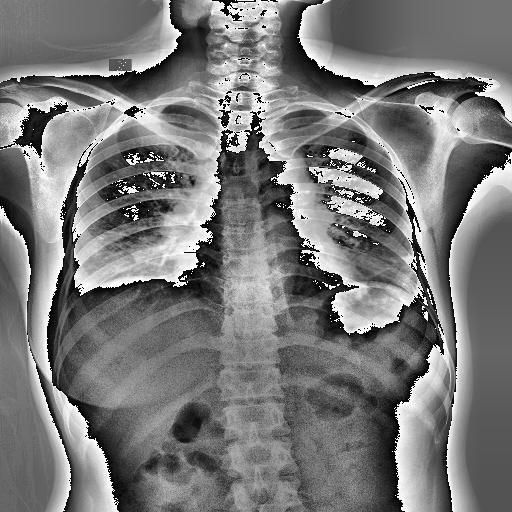0- Aortic enlargement: (246, 143, 316, 207), (244, 144, 308, 194), (259, 148, 307, 201)
13- Pulmonary fibrosis: (366, 249, 420, 278), (375, 254, 421, 274)
3- Cardiomegaly: (168, 246, 356, 298), (168, 252, 360, 298), (171, 255, 361, 299)
8- Nodule-Mass: (98, 236, 104, 240)
